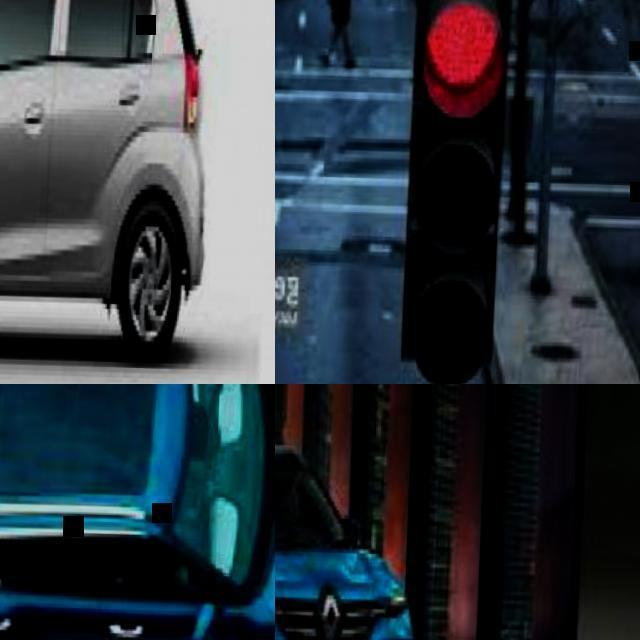car: (0, 0, 203, 357), (273, 0, 408, 391), (273, 549, 414, 639)
